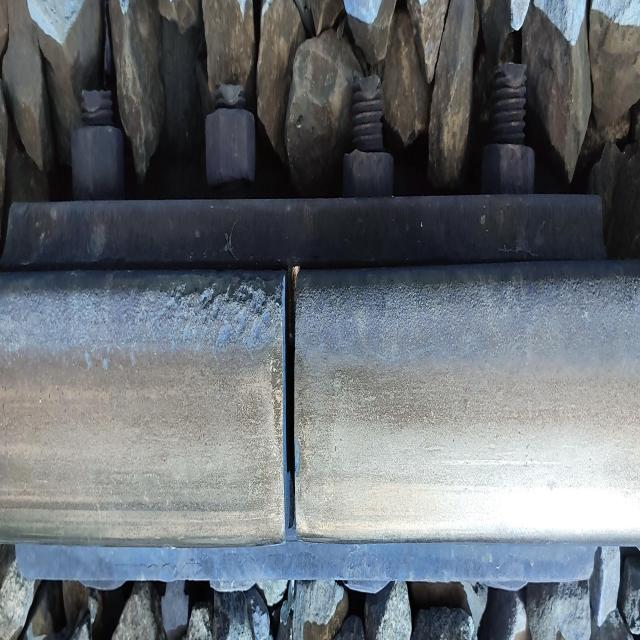Good Joint: (3, 84, 613, 618)
